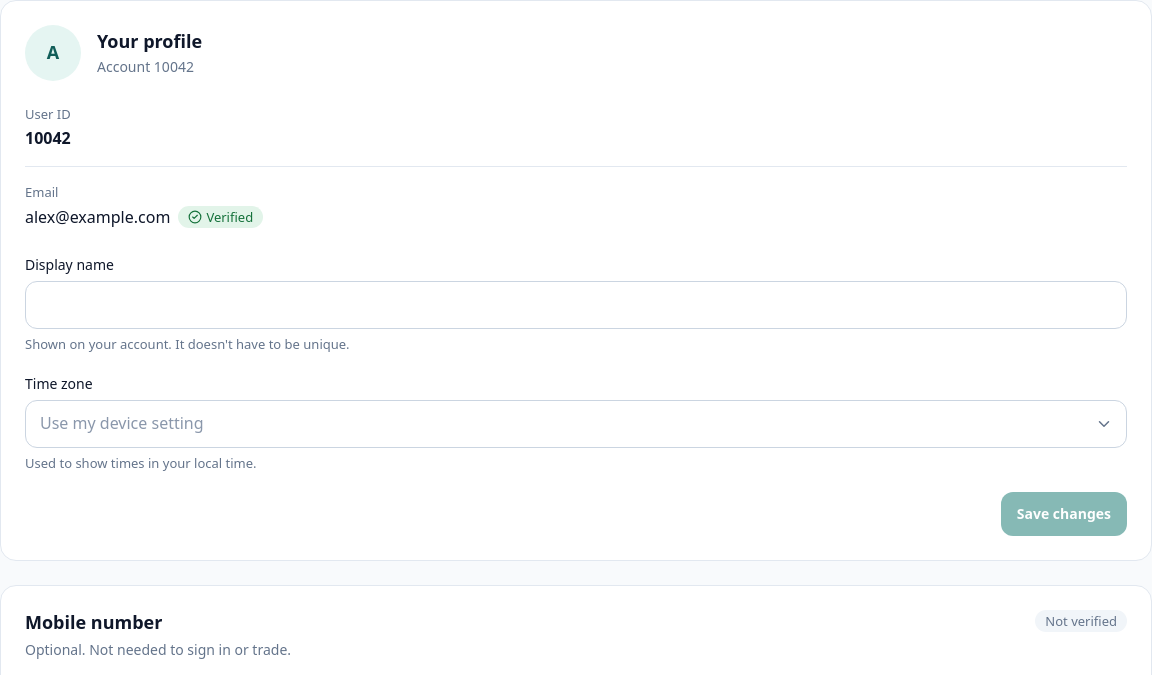
Scenario: ProfileSettings › saves a trimmed display name and a time zone together
Check: the button "Save changes" is disabled, box [1001,492,1127,536]
In the field labelled "Display name": (576, 305) [25,281,1127,329], type "  Alex Rivera "
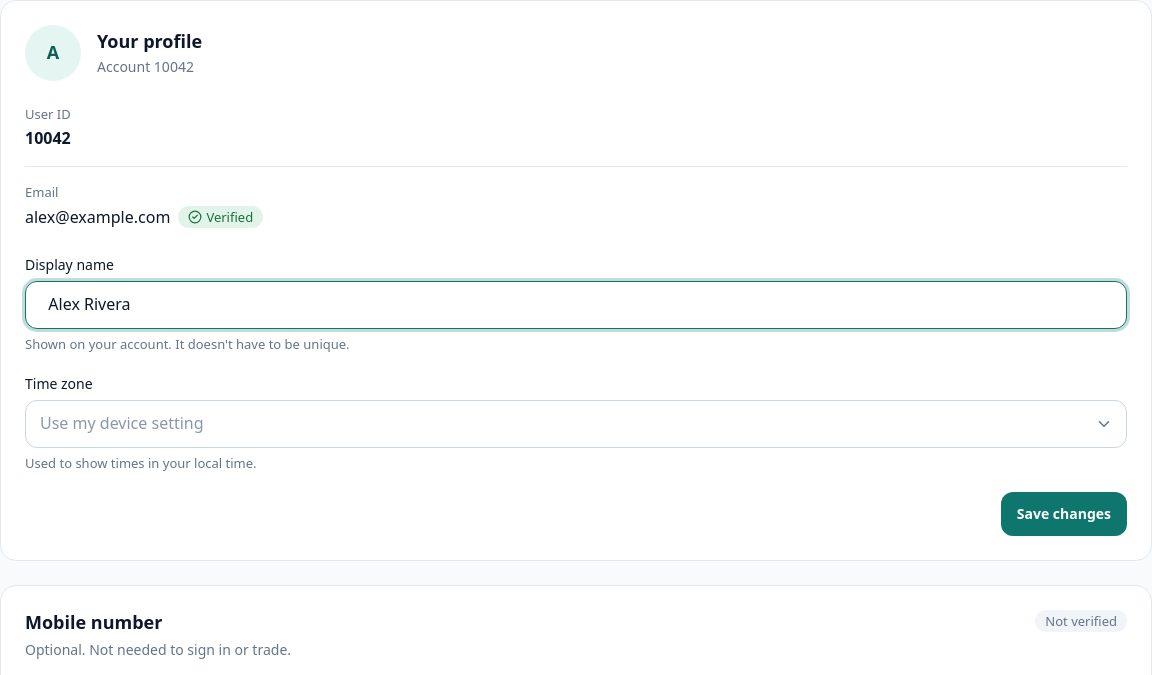
Select "Europe/London" in the dropdown labelled "Time zone": (576, 424) [25,400,1127,448]
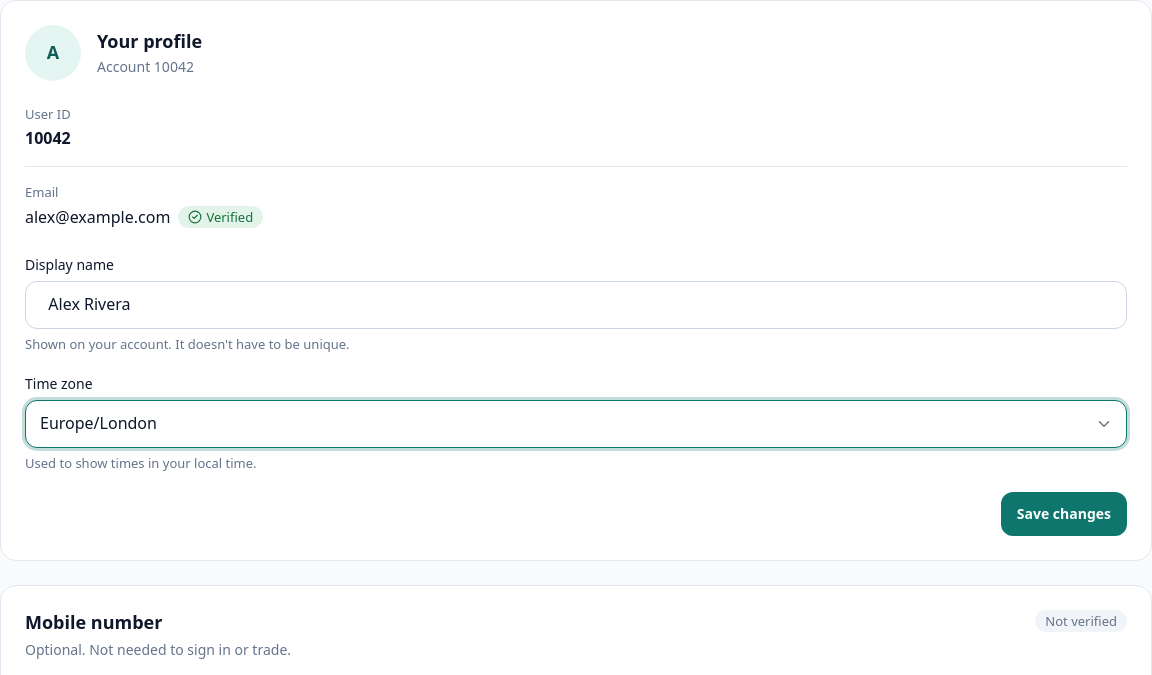
Click the button "Save changes": click(1064, 514) [1001,492,1127,536]
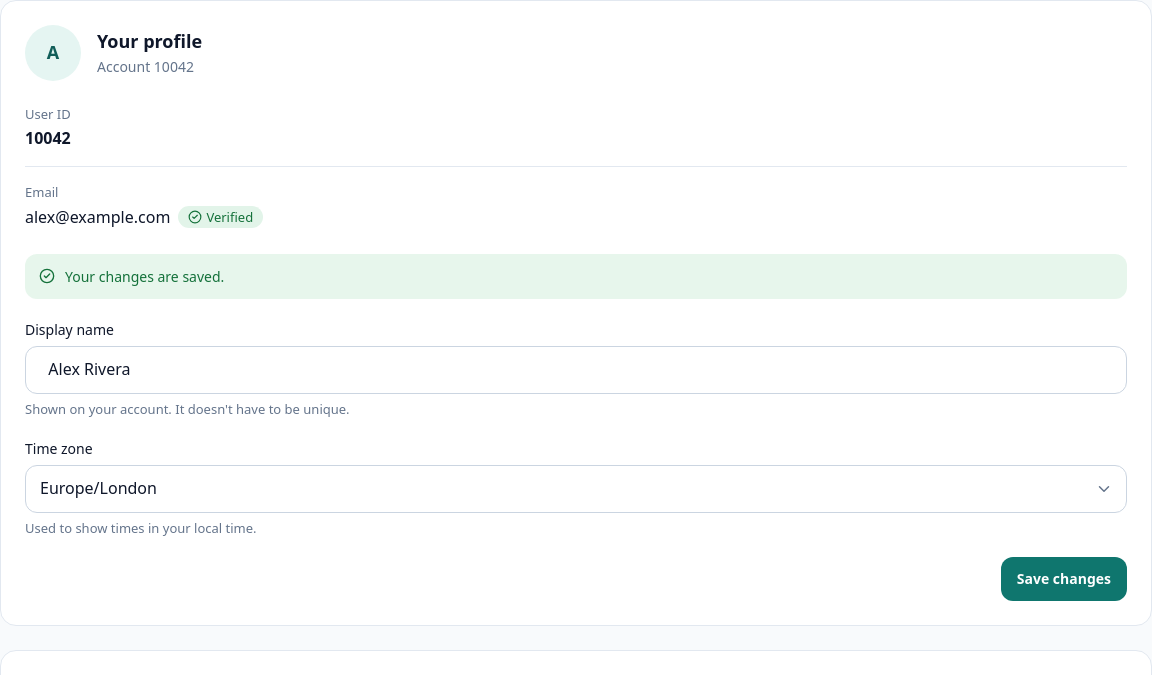
Check: the text "Your changes are saved." is shown, box [65,266,224,287]
